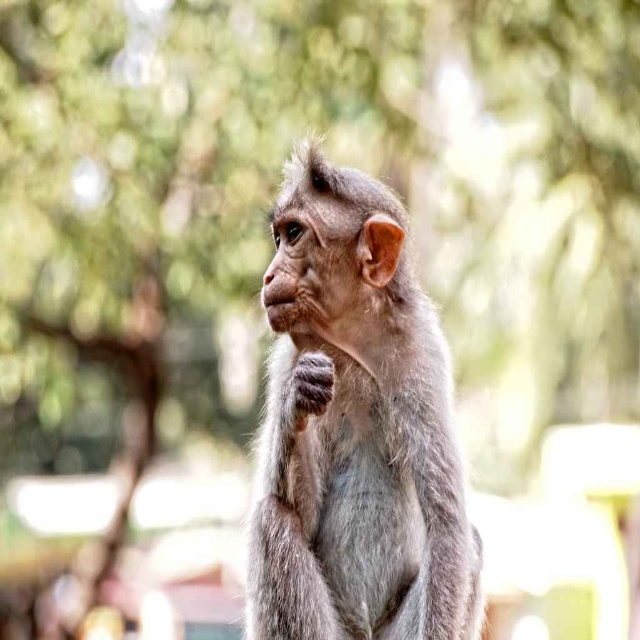Monkey: (238, 147, 487, 640)
